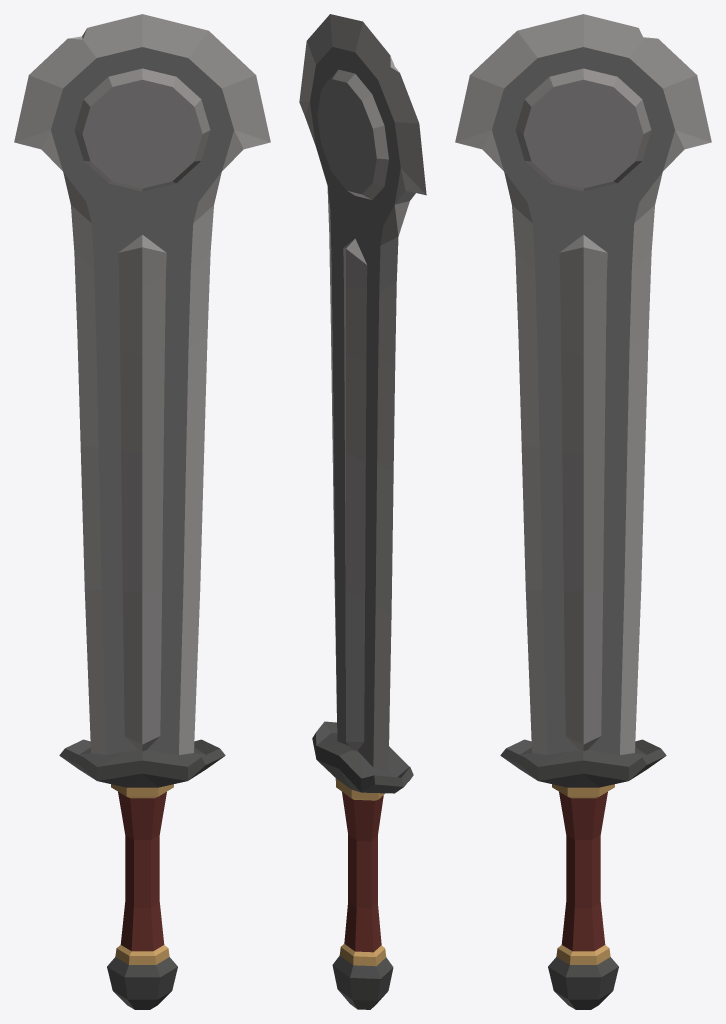
Rendered from SM_Wep_Greatsword_Round_01.FBX.
3 views of the same model, side by side, from view 1: azimuth 90°, elevation 25°; view 2: azimuth 210°, elevation 25°; view 3: azimuth 270°, elevation 25° (orthographic).
Visible parts, largest first — view 1: SM_Wep_Greatsword_Round_01; view 2: SM_Wep_Greatsword_Round_01; view 3: SM_Wep_Greatsword_Round_01.
Boxes of the visible parts, x1,y1,x2,y2 form: SM_Wep_Greatsword_Round_01: [14, 14, 270, 1009]; SM_Wep_Greatsword_Round_01: [299, 14, 426, 1009]; SM_Wep_Greatsword_Round_01: [455, 14, 711, 1009].
Bounding box in the file's own units: 7.72 × 35.37 × 151.
